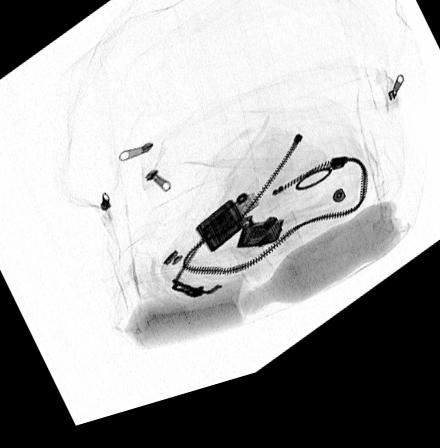Lighter: (194, 205, 285, 265)
